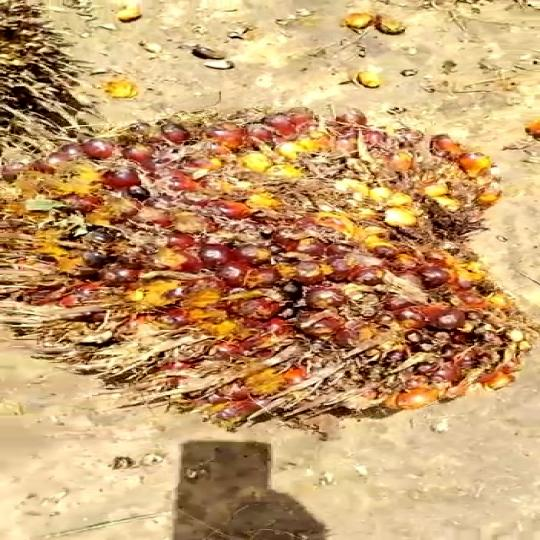masak: (0, 90, 540, 448)
